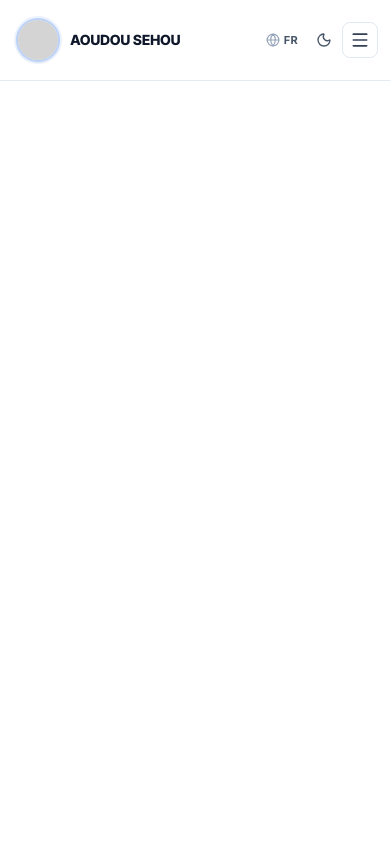
Test: Campagne de Tests End-to-End & Intégration — Portfolio AOUDOU SEHOU › Scénario 5 : Ouverture, navigation et fermeture du menu mobile
The width and height of the screenshot is (390, 844).
// Clic pour ouvrir le menu mobile
Click the button named "ouvrir le menu".
click(360, 40)  # box [342,22,378,58]
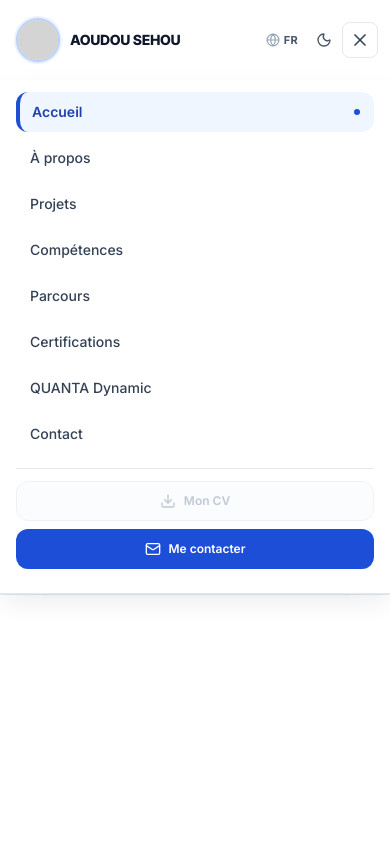
Expected: the button named "ouvrir le menu" is expanded, [342,22,378,58]
Expected: the element with id "mobile-navigation" is shown
// Clic sur un lien mobile (ex: Projets) doit fermer le tiroir
Click the link "Projets".
click(53, 204)  # box [30,195,76,212]
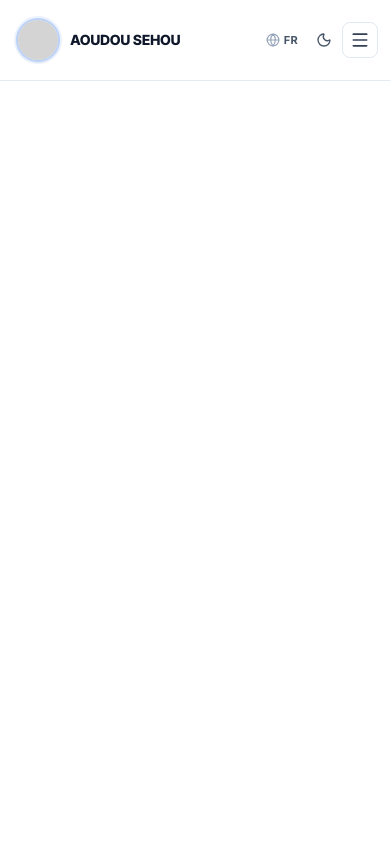
Expected: the element with id "mobile-navigation" is gone
